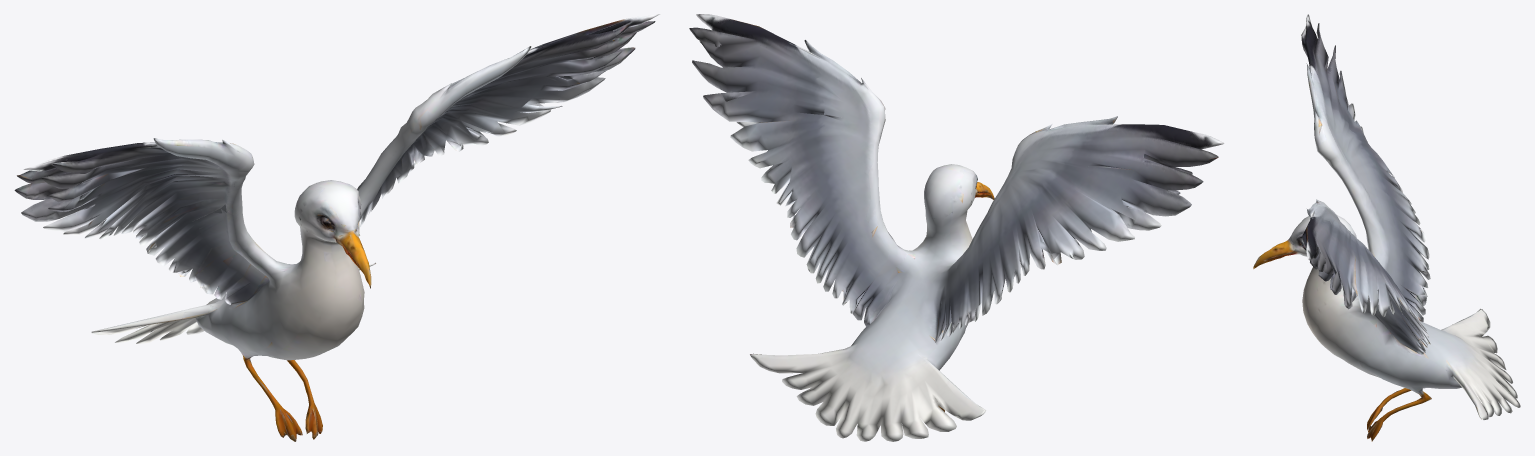
File: seagull.glb
3 renders of one model, left to right at view 1: azimuth 30°, elevation 25°; view 2: azimuth 150°, elevation 25°; view 3: azimuth 270°, elevation 25°, orthographic. The views are drawn at different scales.
Bounding box in the file's own units: 0.9517 × 0.5435 × 0.4365.
Materials: 1 (1 with a texture image).
